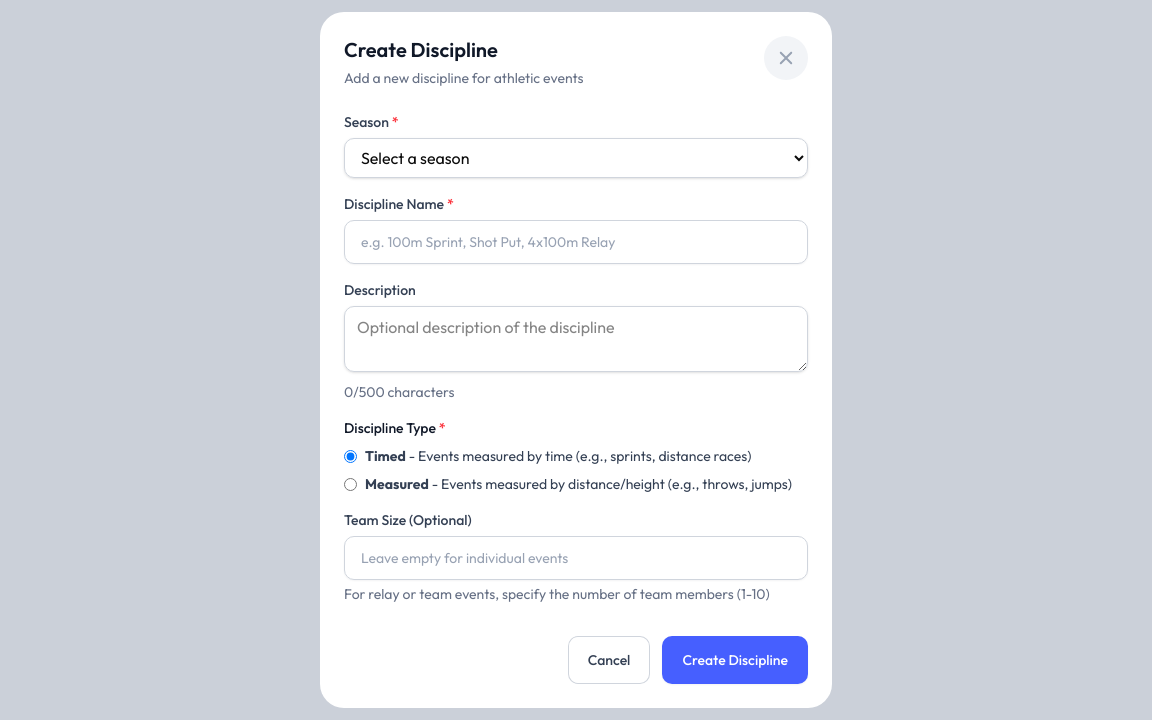
Test: DisciplineModal › Create Mode › should handle API validation errors
Step 1. Select "Track & Field" in the dropdown labelled "Season *" → (576, 158), box [344,138,808,178]
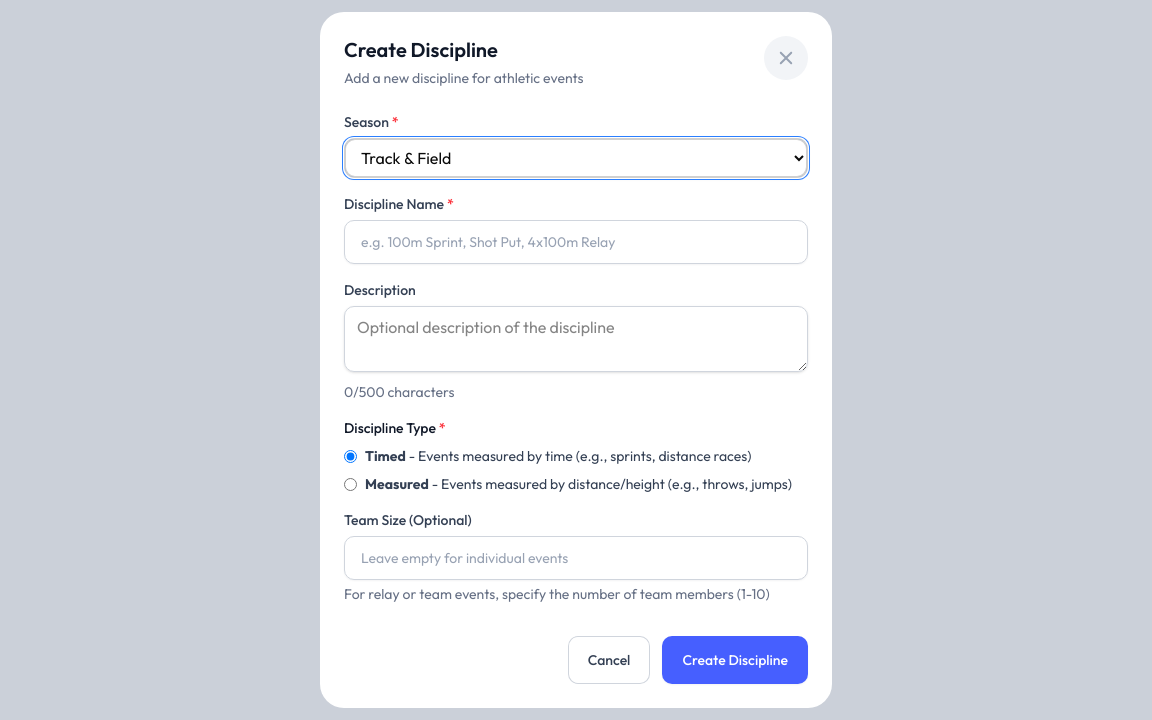
Step 2. Type "Existing Discipline" into the field labelled "Discipline Name *" → (576, 242), box [344,220,808,264]
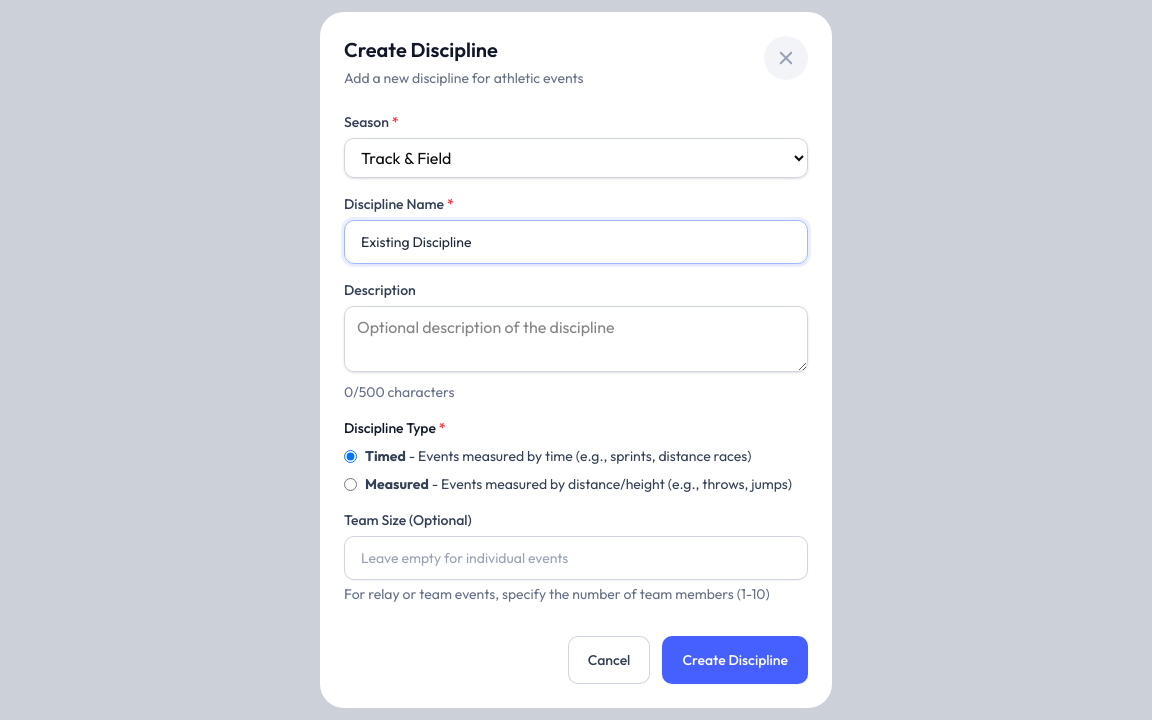
Step 3. Click the button "Create Discipline" → (735, 660), box [662,636,808,684]
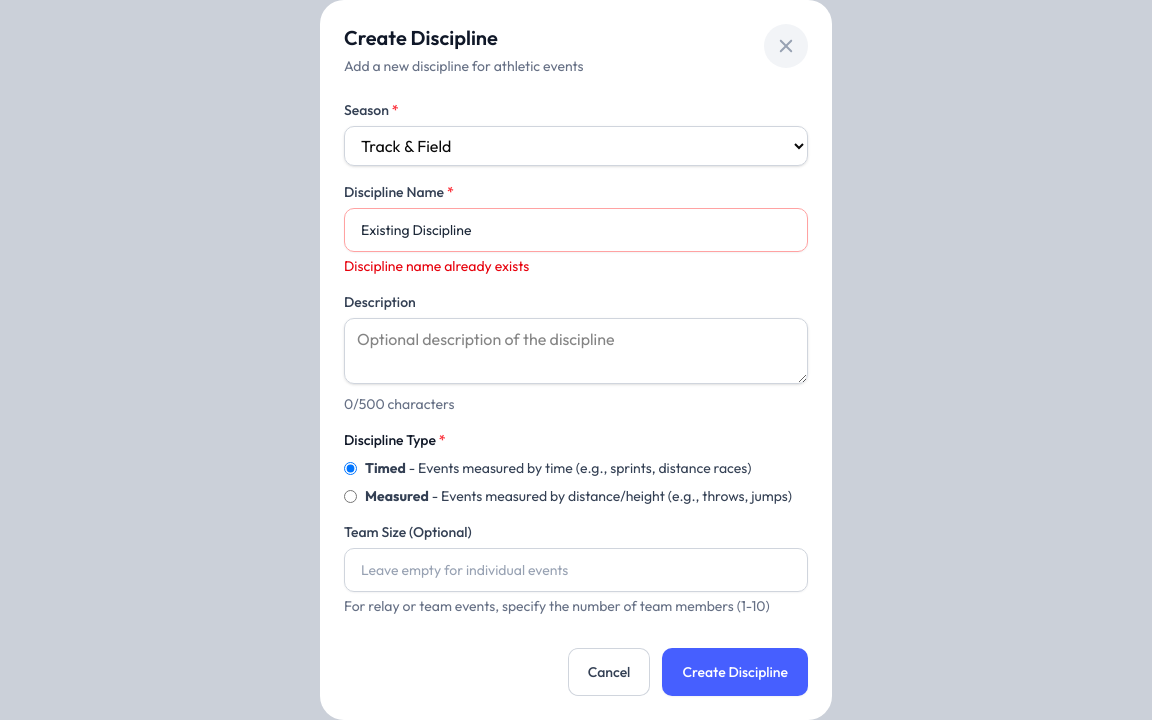
Now the text "Discipline name already exists" is shown, box [344,257,529,275]
